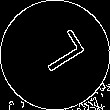L_SW: (26, 28, 84, 82)
